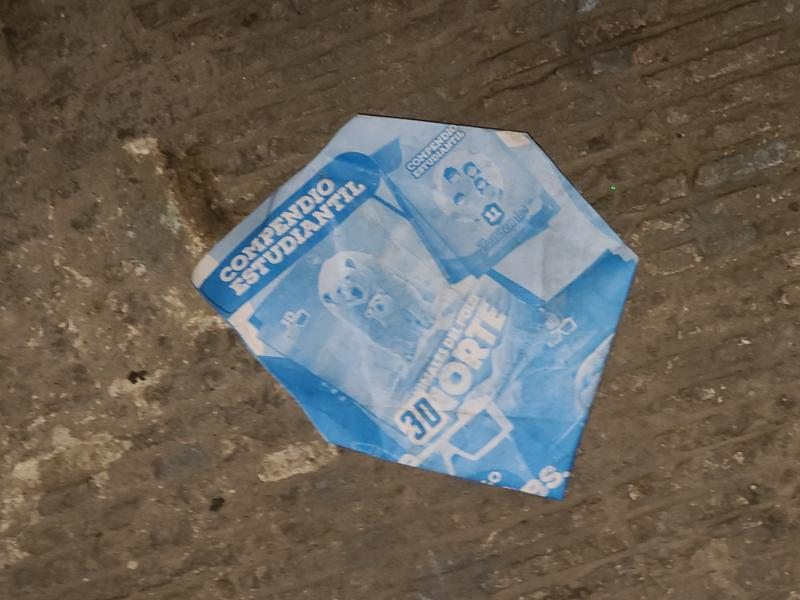papel: (191, 116, 637, 501)
